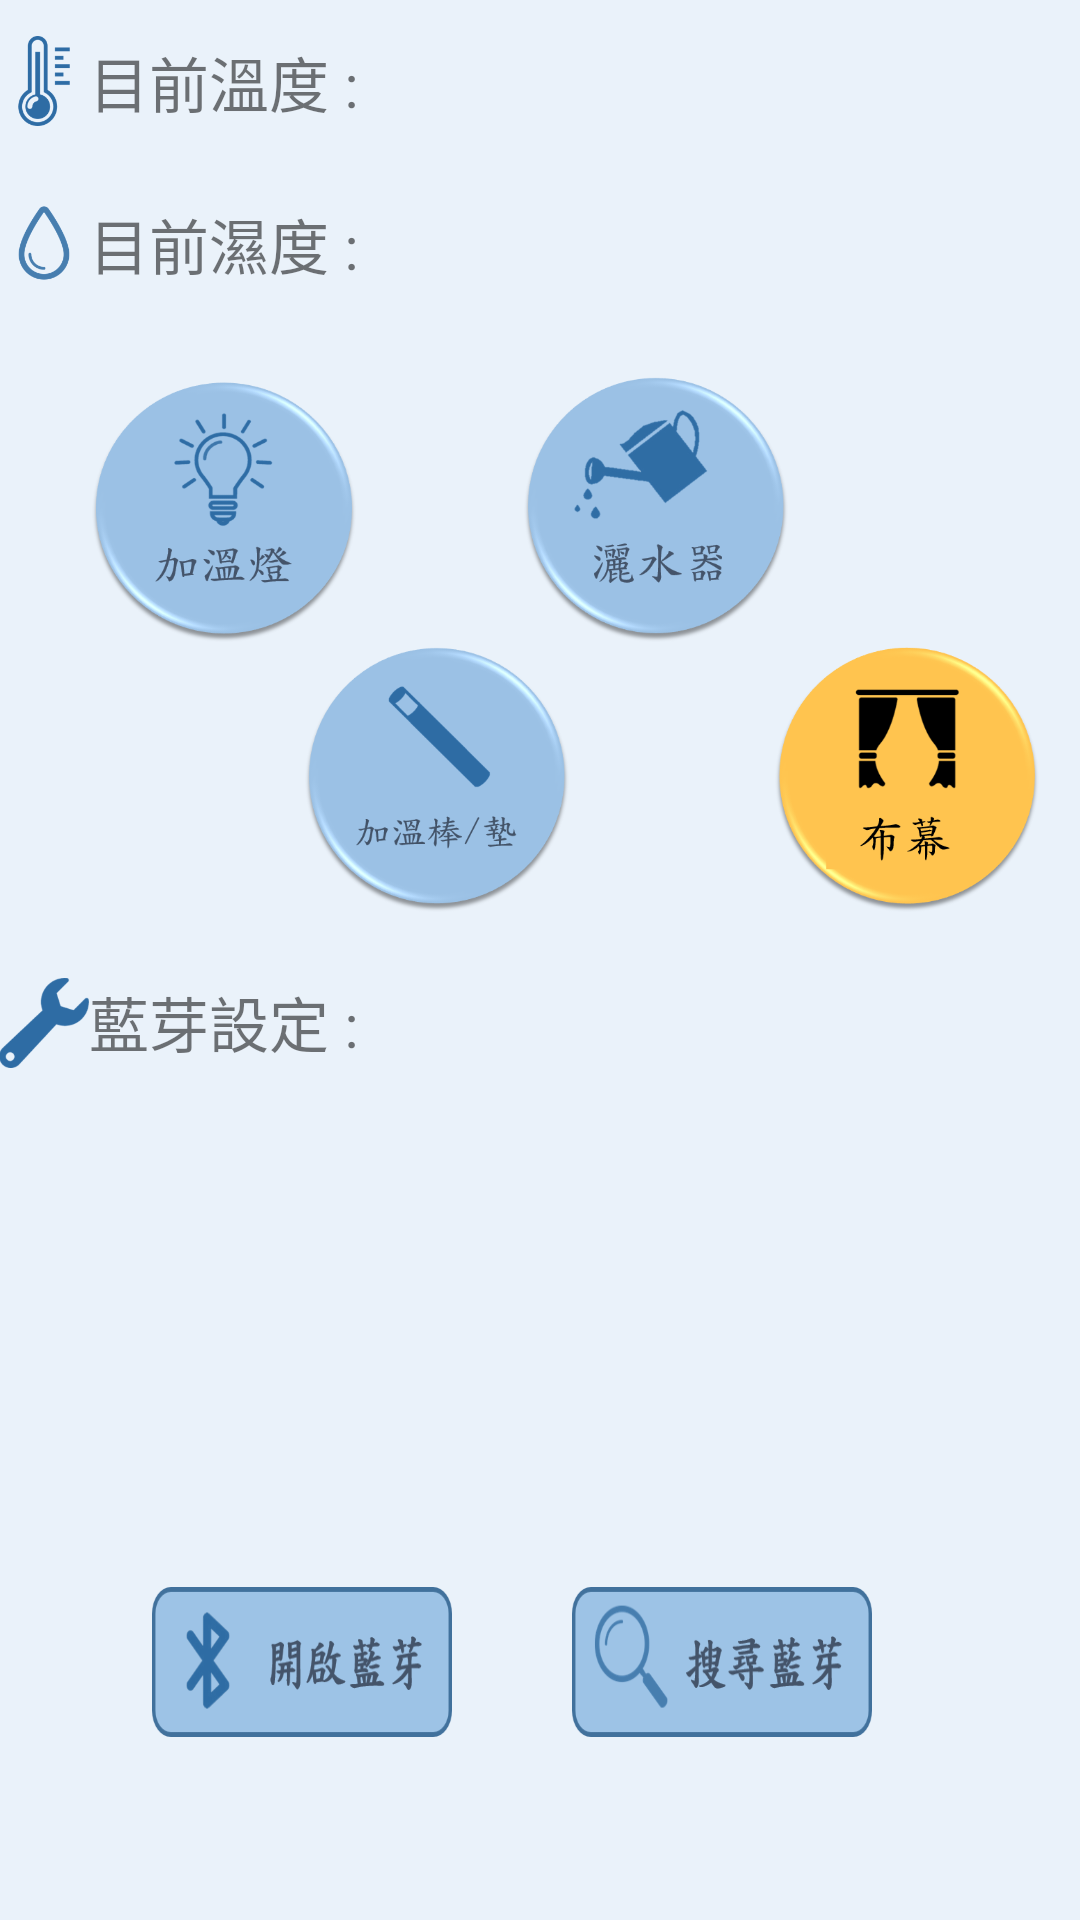

Named icons in this screenshot (1080px x 1920px) and their centers, (x,y):
setting: (44,1023)
stick: (437,778)
